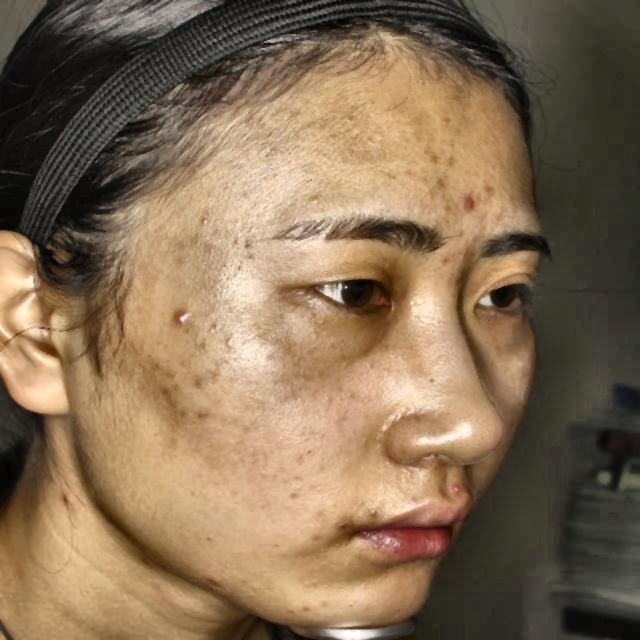comedone: (166, 303, 213, 335), (49, 479, 81, 514), (454, 188, 483, 218), (451, 480, 473, 505), (204, 568, 221, 592)
